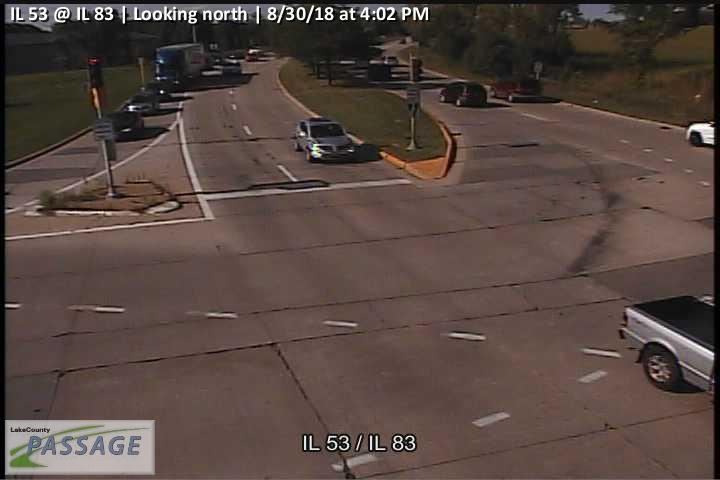SUV: (294, 118, 360, 164), (438, 80, 487, 107)
Sedan: (108, 111, 146, 142), (684, 121, 715, 149), (127, 95, 161, 115), (140, 83, 169, 101), (221, 63, 242, 74)
Truck: (616, 294, 720, 394), (156, 42, 206, 81)
